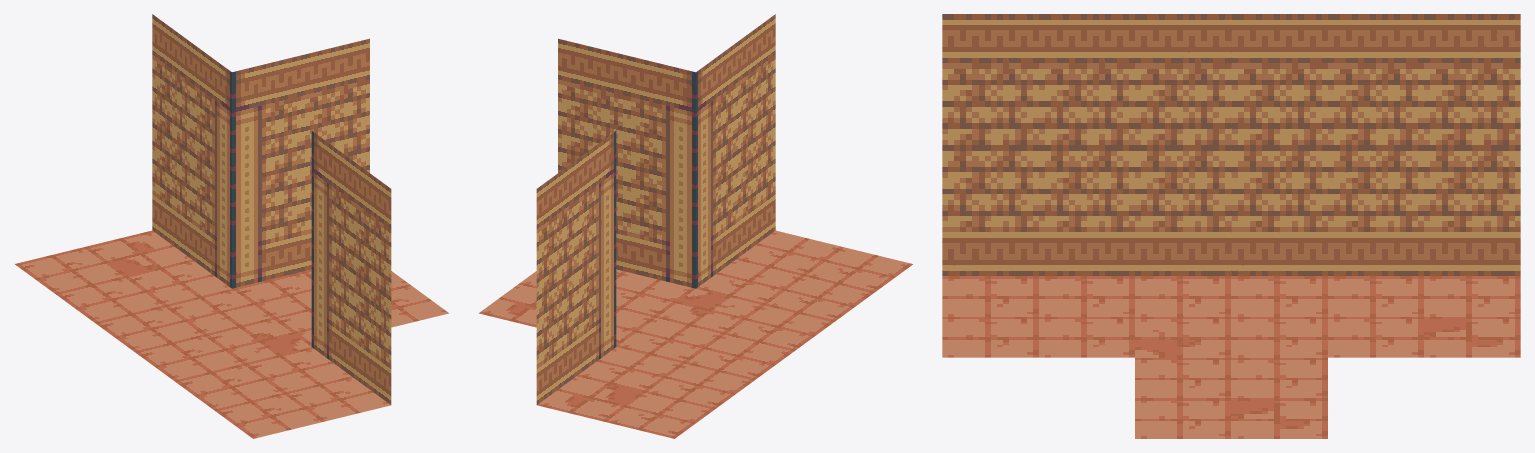
Rendered from Dungeon_A_3_Way.gltf.
The picture shows the model from 3 angles, left to right: view 1: azimuth 30°, elevation 25°; view 2: azimuth 150°, elevation 25°; view 3: azimuth 270°, elevation 25°; orthographic projection. The views are drawn at different scales.
Bounding box in the file's own units: 4 × 3 × 6.
1 material, 1 textured.
